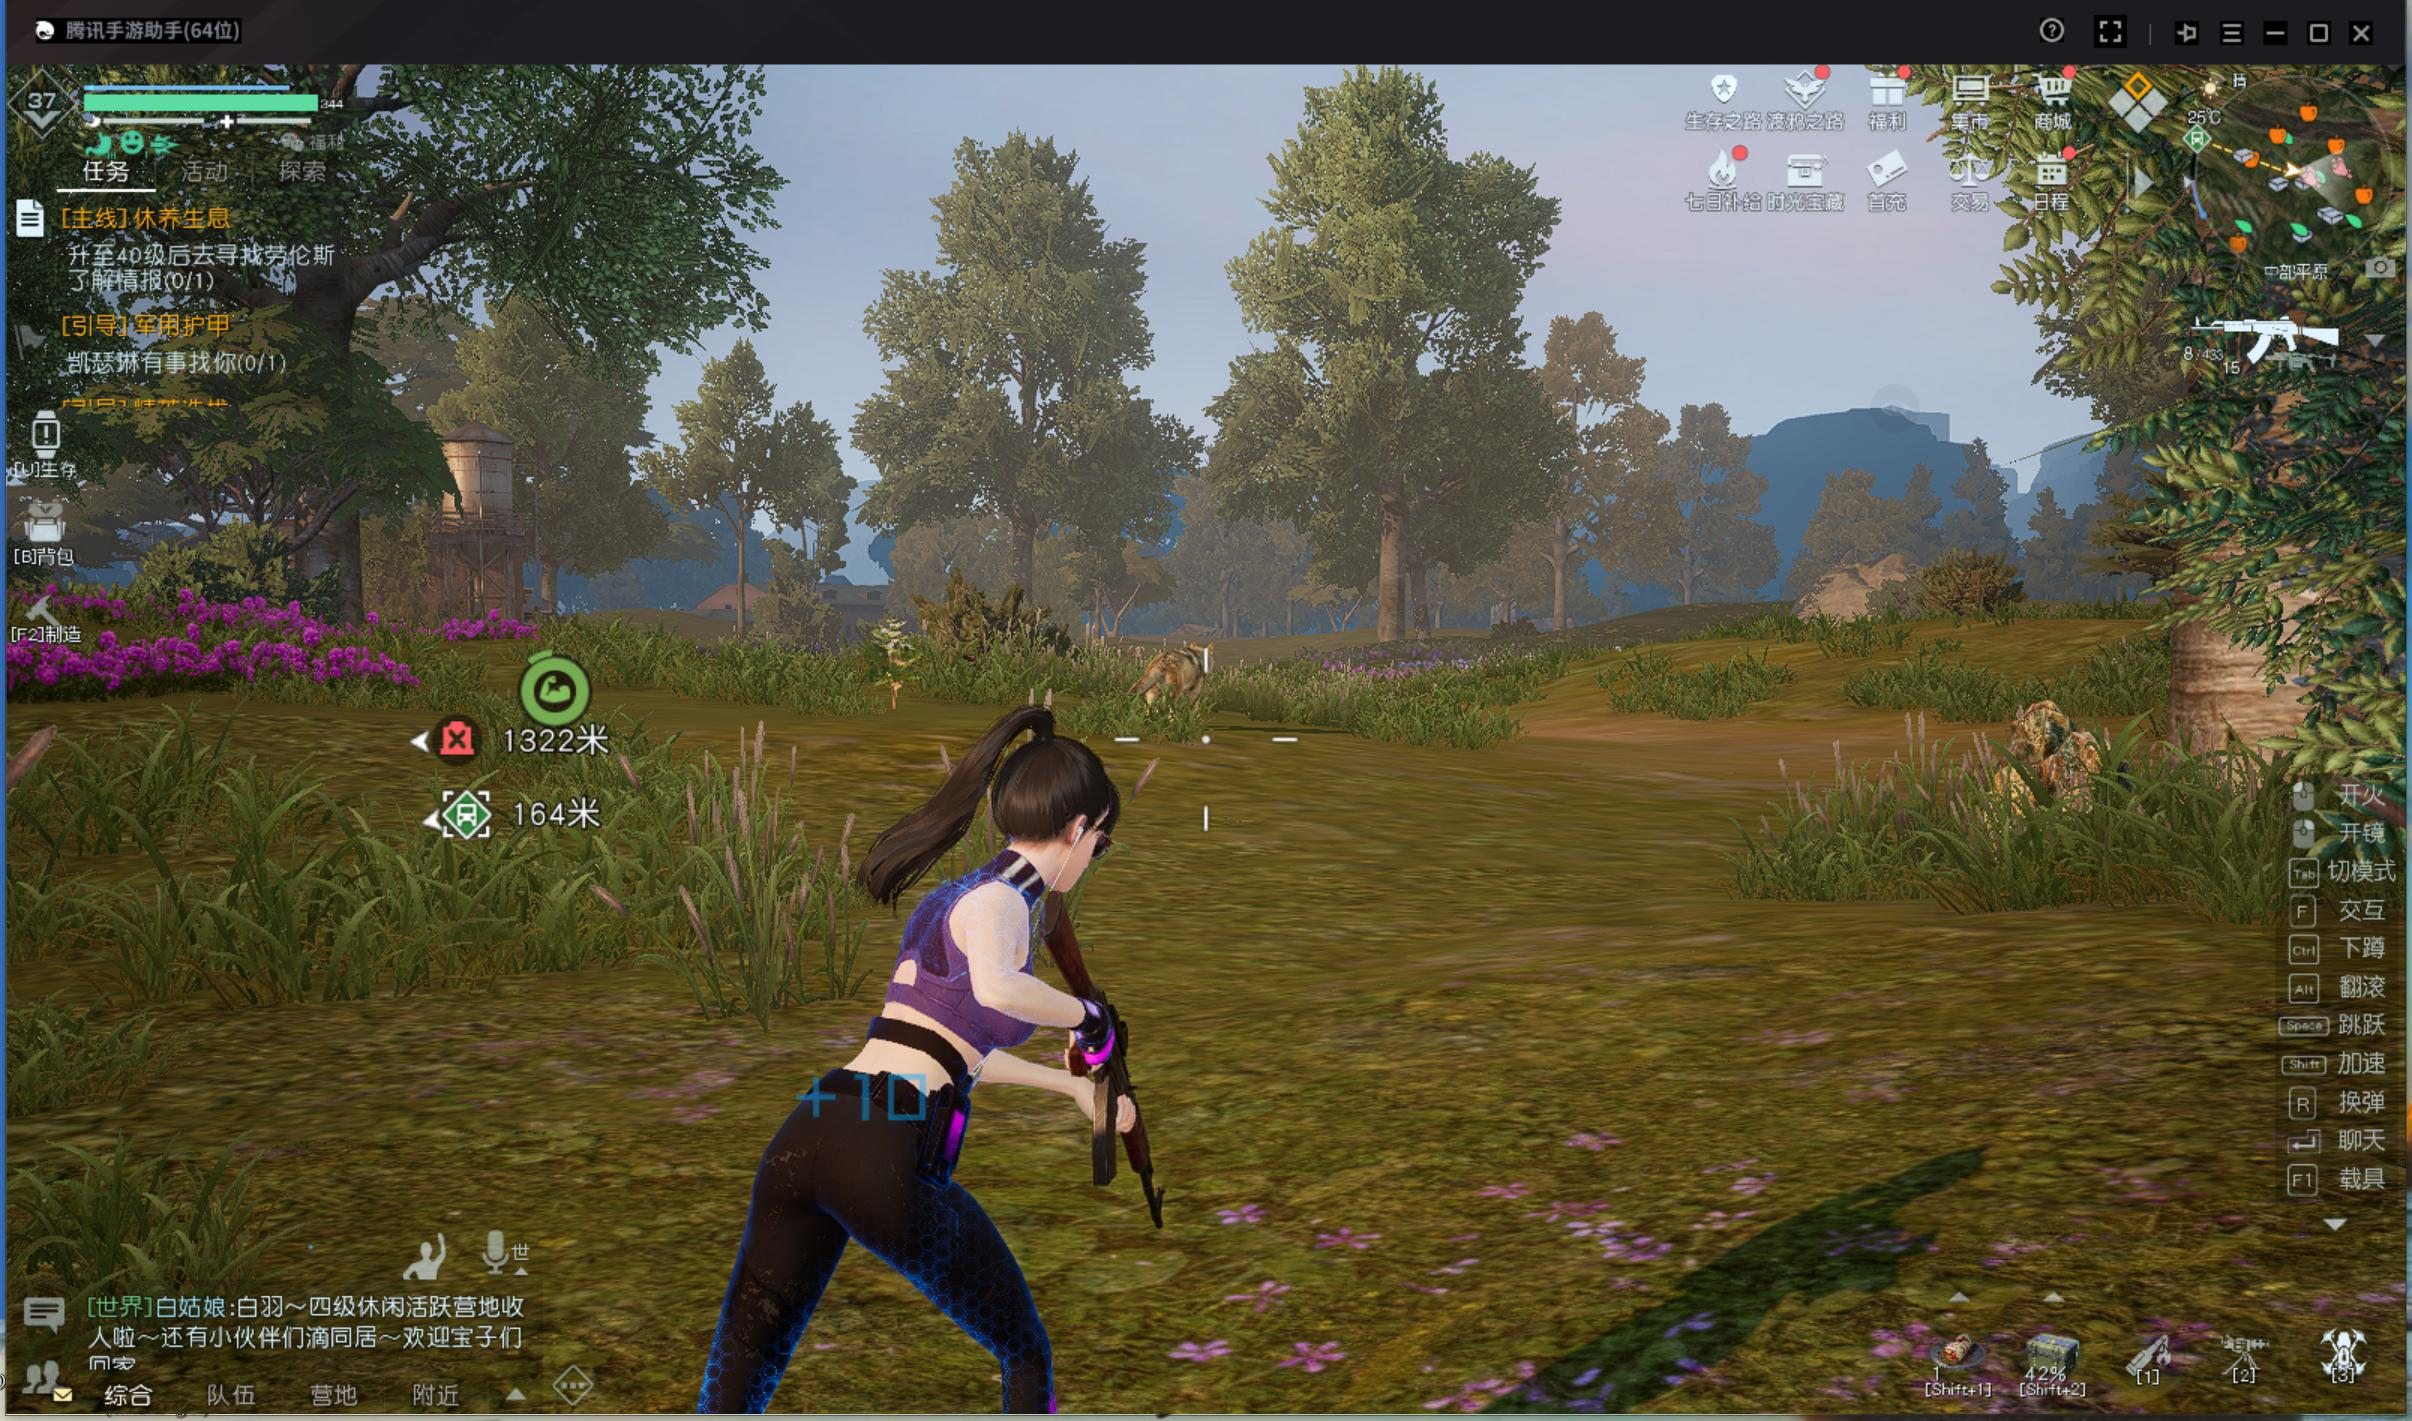stone: (1932, 683, 2135, 858)
tree: (271, 306, 381, 655), (995, 524, 1047, 672), (1362, 523, 1412, 661), (1546, 558, 1576, 638), (1675, 543, 1707, 607)
